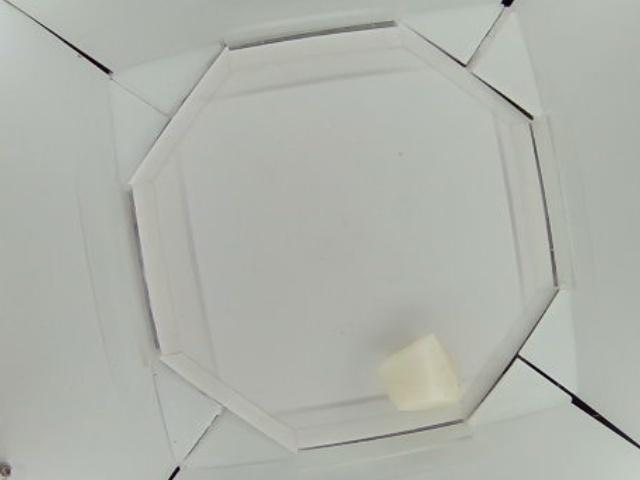Mooli: (377, 331, 459, 415)
